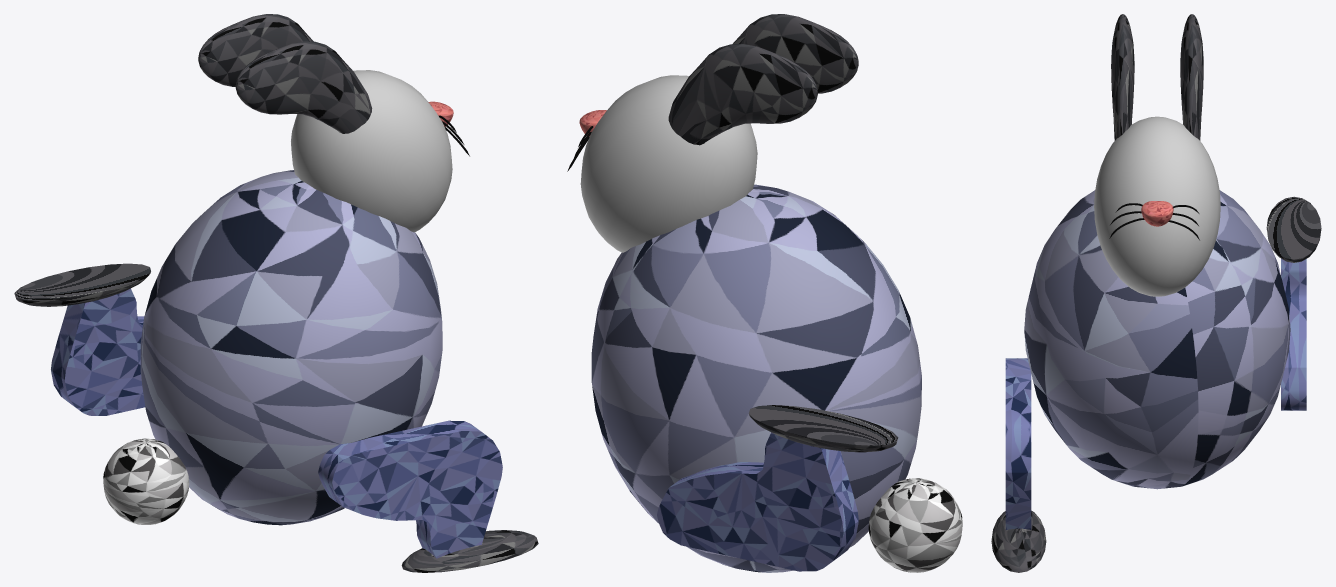
File: Kaninus animation run and walk.fbx
The picture shows the model from 3 angles, left to right: view 1: azimuth 30°, elevation 25°; view 2: azimuth 150°, elevation 25°; view 3: azimuth 270°, elevation 25°; orthographic projection. The views are drawn at different scales.
Visible parts, largest first — view 1: pSphere1, polySurface28, pSphere3, pSphere4, pSphere2, pSphere12; view 2: pSphere1, polySurface28, pSphere3, pSphere12, pSphere2, pSphere4; view 3: pSphere1, pSphere3, polySurface28, pSphere12, pSphere4, pSphere9.
Part boxes in pixels (x1,y1,x2,y2): pSphere1: (140,170,442,525); polySurface28: (14,263,538,572); pSphere3: (291,70,452,232); pSphere4: (235,41,372,133); pSphere2: (103,438,189,524); pSphere12: (198,14,313,86); pSphere1: (591,184,921,572); polySurface28: (657,405,898,571); pSphere3: (580,75,757,252); pSphere12: (668,44,817,145); pSphere2: (868,478,962,572); pSphere4: (732,14,858,93); pSphere1: (1024,190,1290,489); pSphere3: (1094,116,1220,296); polySurface28: (991,196,1321,572); pSphere12: (1180,14,1203,140); pSphere4: (1111,14,1134,140); pSphere9: (1141,201,1173,226).
Bounding box in the file's own units: 2.45 × 3.15 × 2.03.
